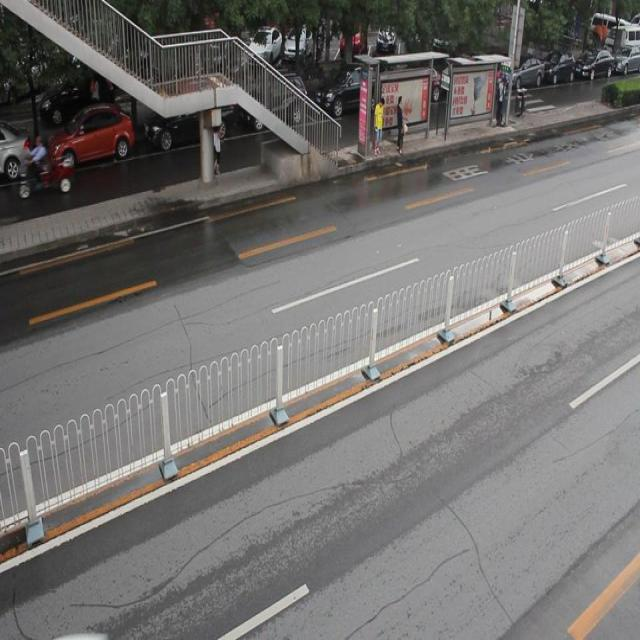car: (51, 108, 138, 169), (145, 92, 238, 146), (316, 64, 391, 119), (244, 73, 312, 133), (1, 125, 35, 181)
